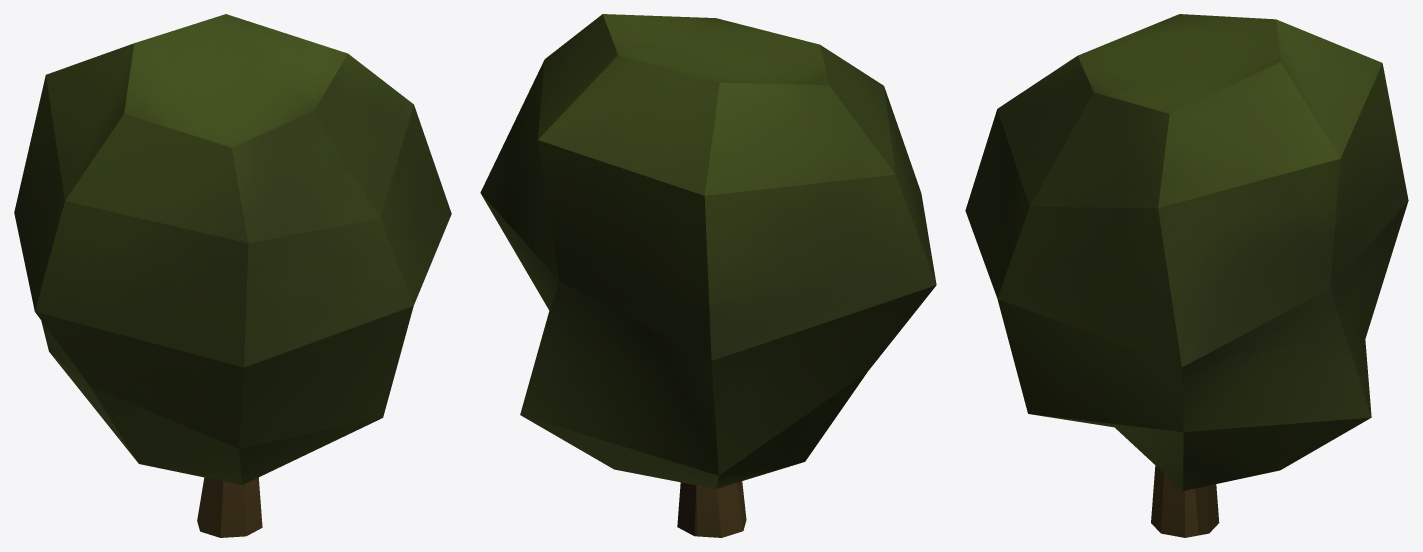
The model's file is tree_02_exp 1.fbx.
3 renders of one model, left to right at view 1: azimuth 30°, elevation 25°; view 2: azimuth 150°, elevation 25°; view 3: azimuth 270°, elevation 25°, orthographic. The views are drawn at different scales.
Parts seen in each view (by area): view 1: tree_02; view 2: tree_02; view 3: tree_02.
Boxes of the visible parts, left/top/right/bottom form: tree_02: left=14, top=14, right=451, bottom=537; tree_02: left=480, top=14, right=936, bottom=537; tree_02: left=965, top=14, right=1408, bottom=537.
Bounding box in the file's own units: 11.05 × 11.61 × 9.67.
